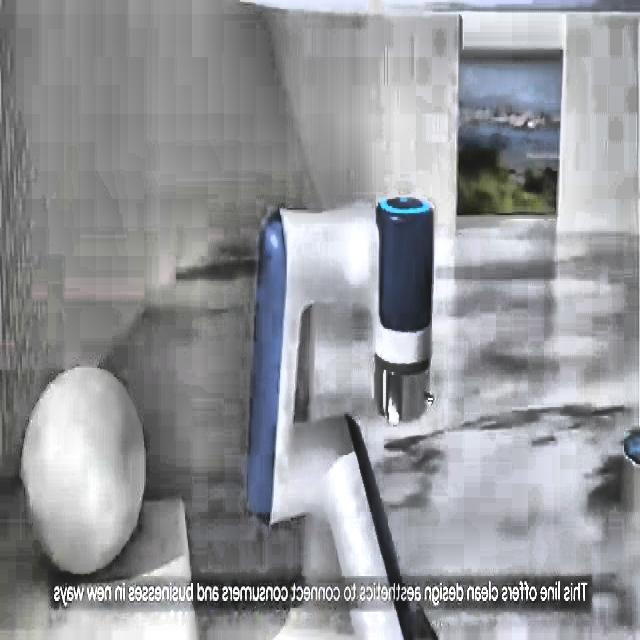robot: (246, 194, 437, 636)
